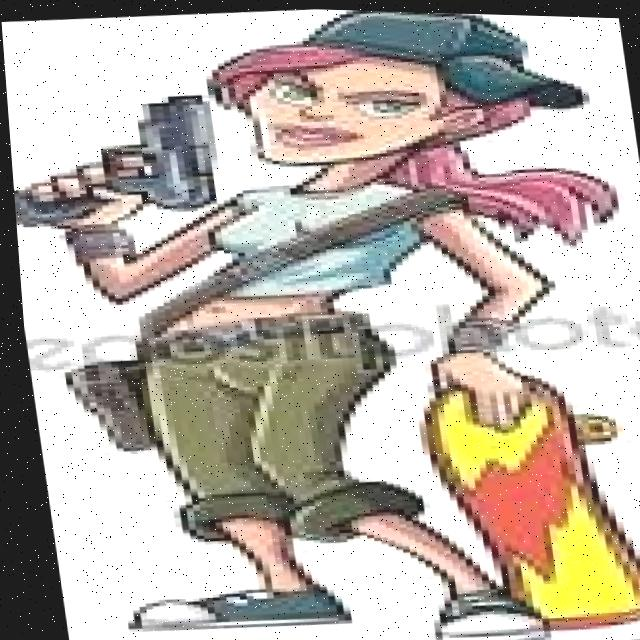pistol: (5, 84, 225, 231)
